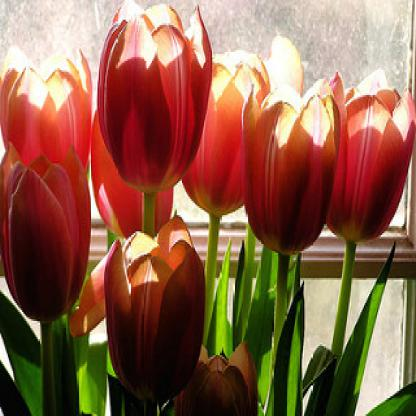TULIP: (11, 28, 412, 367)
